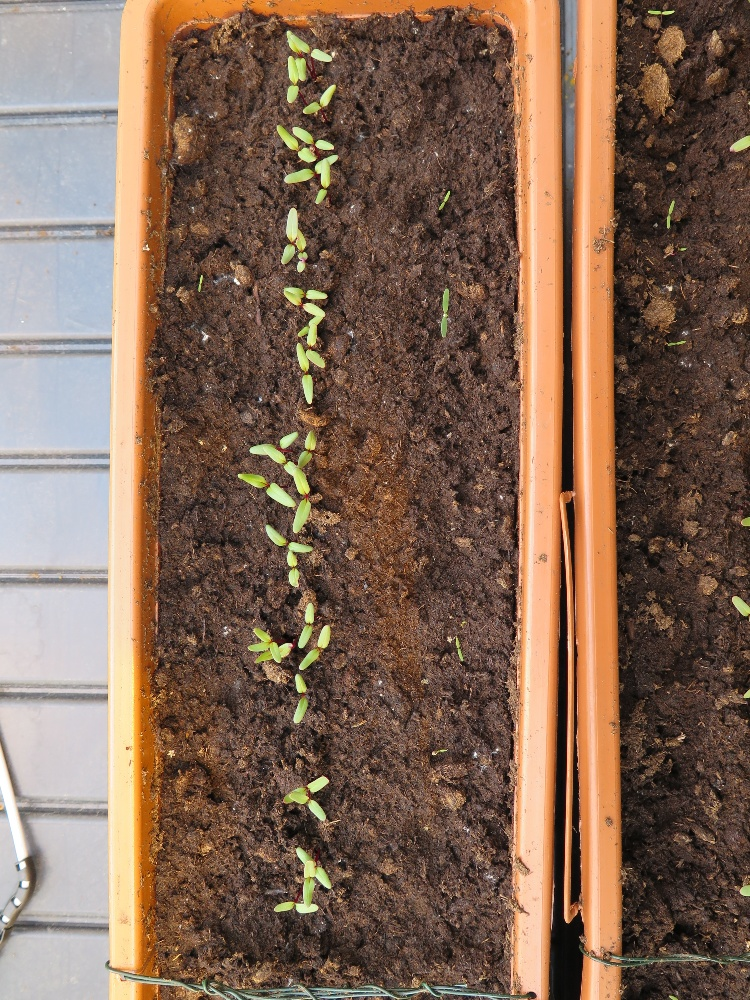crop: (235, 472, 297, 508), (293, 845, 334, 894), (283, 152, 341, 184), (273, 124, 318, 164), (297, 623, 332, 670), (280, 774, 330, 806), (263, 524, 315, 554), (262, 444, 306, 478), (293, 343, 317, 405), (286, 789, 329, 823), (249, 430, 300, 458), (290, 34, 334, 65), (291, 472, 312, 535), (281, 290, 328, 318), (300, 82, 337, 117), (291, 125, 334, 154), (302, 323, 328, 370), (252, 627, 283, 666), (286, 31, 309, 82), (272, 898, 328, 917), (280, 208, 298, 265), (294, 427, 317, 470), (291, 673, 309, 727), (297, 601, 316, 649), (301, 859, 317, 908), (281, 285, 329, 301), (314, 160, 331, 205), (285, 55, 299, 104), (294, 226, 308, 275), (295, 316, 324, 338), (285, 549, 301, 587)
weed: (438, 284, 452, 340), (435, 189, 453, 213), (664, 197, 676, 230), (646, 7, 677, 18), (454, 636, 465, 664)
